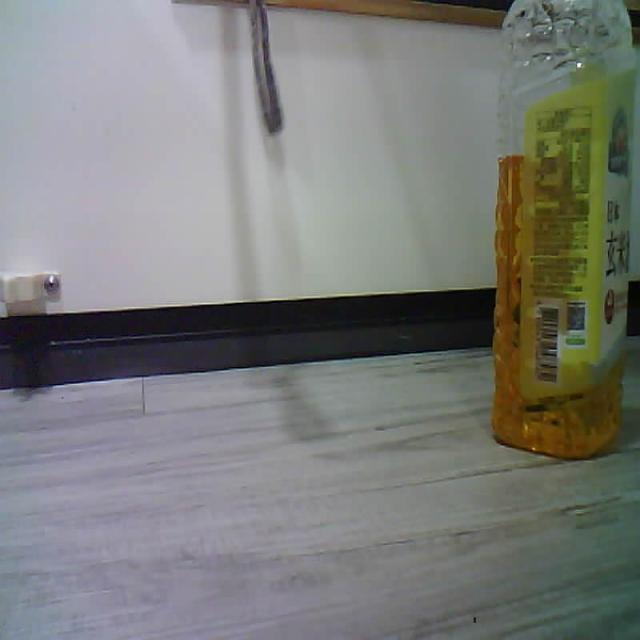bottle: (492, 0, 635, 458)
